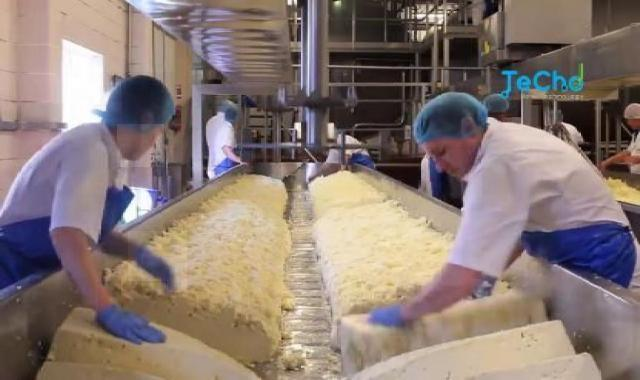apron: (98, 282, 167, 348), (128, 231, 187, 292), (363, 300, 418, 336)
gloves: (100, 72, 174, 146), (406, 94, 484, 154), (488, 86, 518, 116), (210, 96, 246, 118), (621, 101, 640, 125)
no_apron: (229, 152, 254, 172)
no_hairnet: (118, 125, 165, 168), (427, 147, 468, 182)
